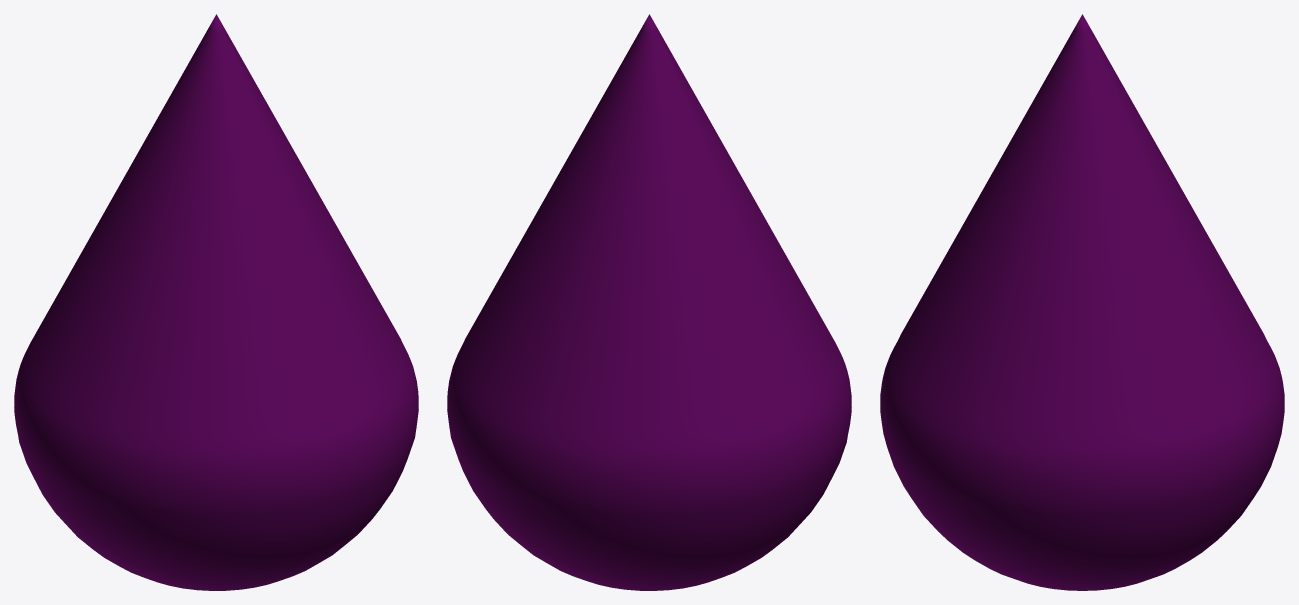
Rendered from Poison.fbx.
3 views of the same model, side by side, from view 1: azimuth 30°, elevation 25°; view 2: azimuth 150°, elevation 25°; view 3: azimuth 270°, elevation 25° (orthographic).
Parts seen in each view (by area): view 1: pCone1; view 2: pCone1; view 3: pCone1.
Boxes of the visible parts, x1,y1,x2,y2 form: pCone1: [14, 14, 418, 590]; pCone1: [447, 14, 851, 590]; pCone1: [880, 14, 1284, 590].
Size of the model in its own units: 1.97 by 3 by 1.97.
